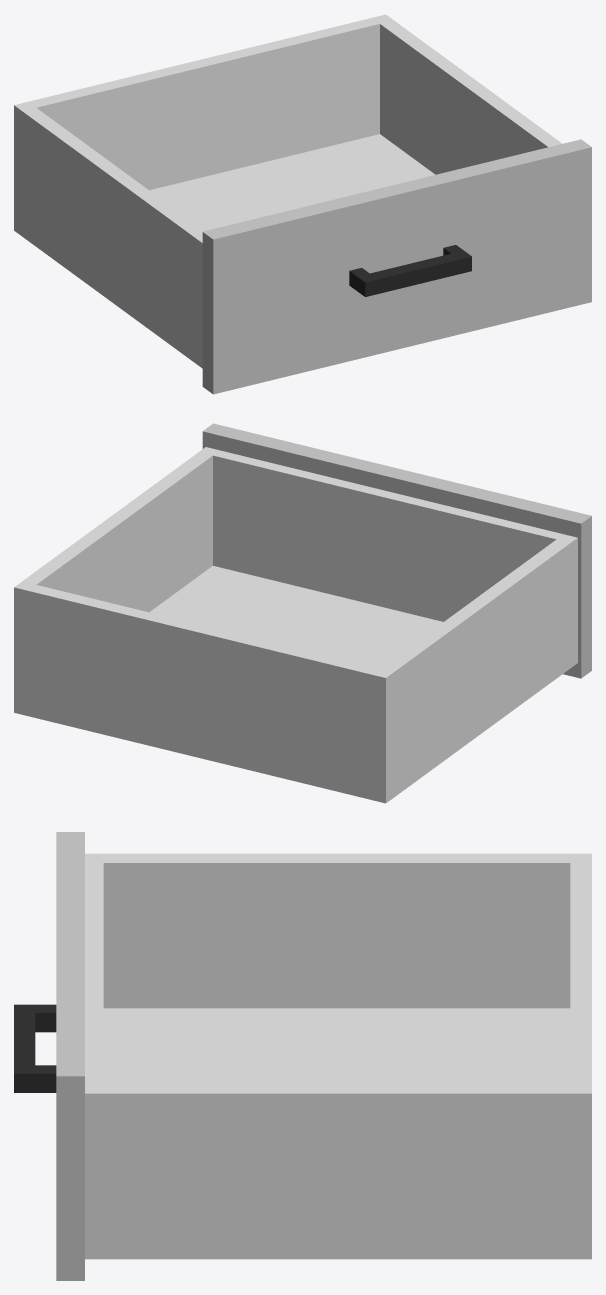
The model's file is BedTable2_C3_02.fbx.
The picture shows the model from 3 angles, top to bottom: view 1: azimuth 30°, elevation 25°; view 2: azimuth 150°, elevation 25°; view 3: azimuth 270°, elevation 25°; orthographic projection. The views are drawn at different scales.
Visible parts, largest first — view 1: BedTable2_C3_02; view 2: BedTable2_C3_02; view 3: BedTable2_C3_02.
Part boxes in pixels (x1,y1,x2,y2): BedTable2_C3_02: (14,14,591,394); BedTable2_C3_02: (14,423,591,803); BedTable2_C3_02: (14,832,591,1280).
Size of the model in its own units: 40.5 by 15.83 by 40.51.
